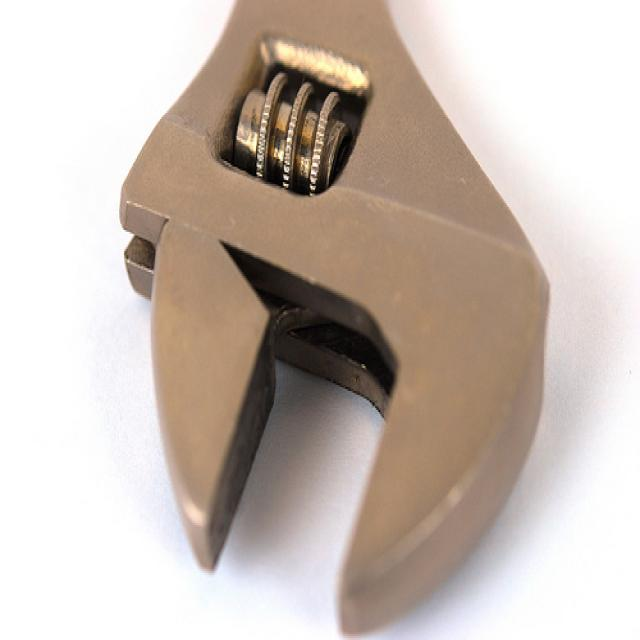wrench: (63, 0, 586, 624)
